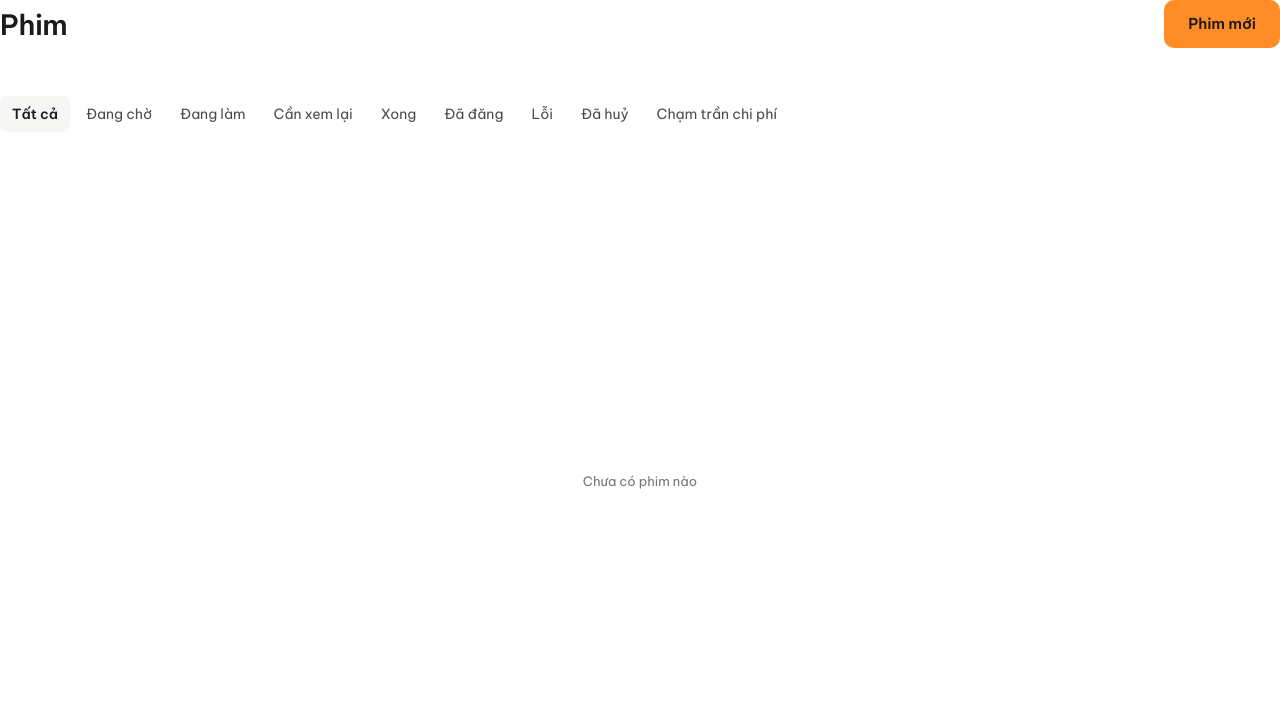
Test: new film › a 400 shows the details list
Step 1. Click the button "Phim mới" → coordinates (1222, 24), box [1164, 0, 1279, 48]
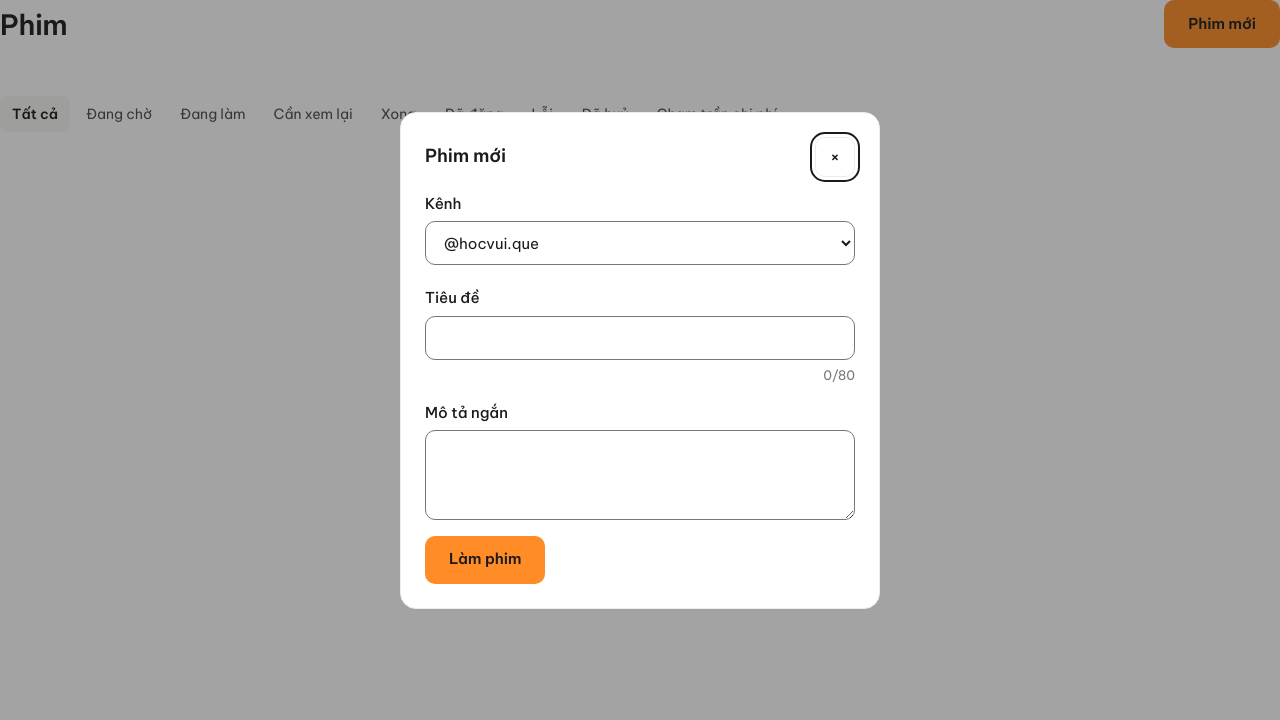
Now the dropdown labelled "Kênh" shows "@hocvui.que", box [425, 221, 855, 265]
Step 2. Type "Phân số là gì?" into the field labelled "Tiêu đề" → coordinates (640, 338), box [425, 316, 855, 360]
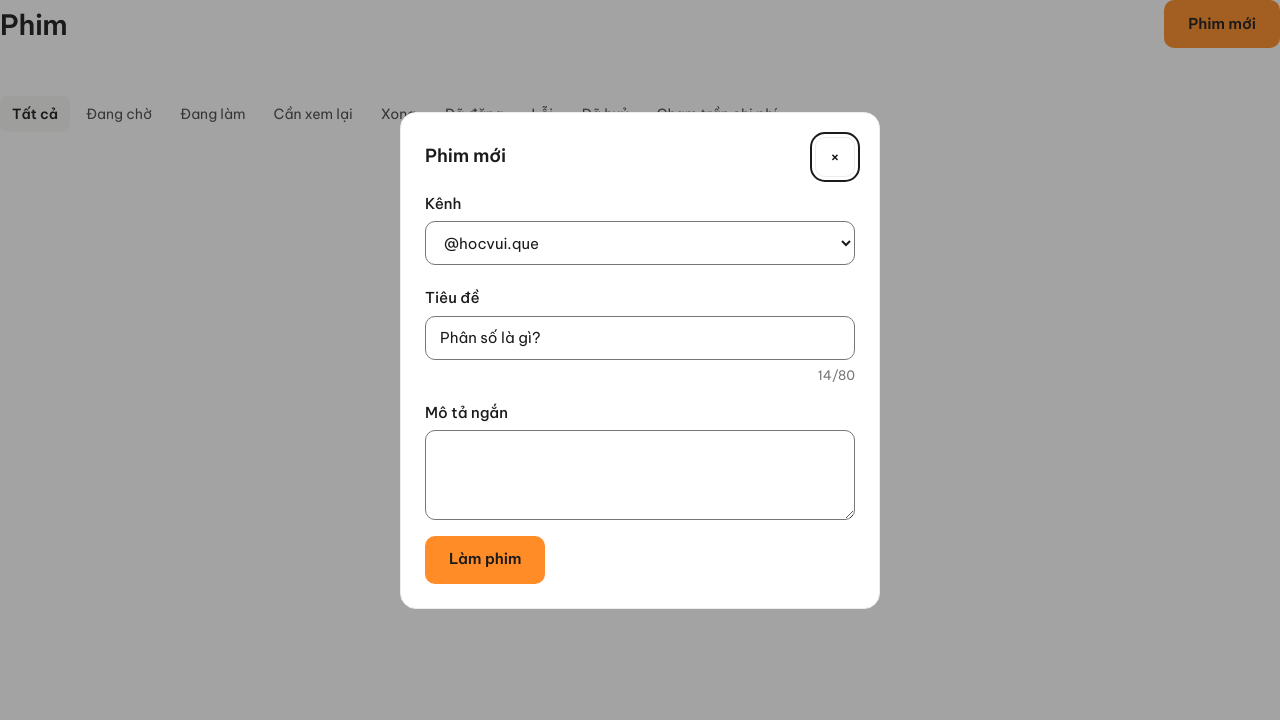
Step 3. Click the button "Làm phim" → coordinates (485, 560), box [425, 536, 546, 584]
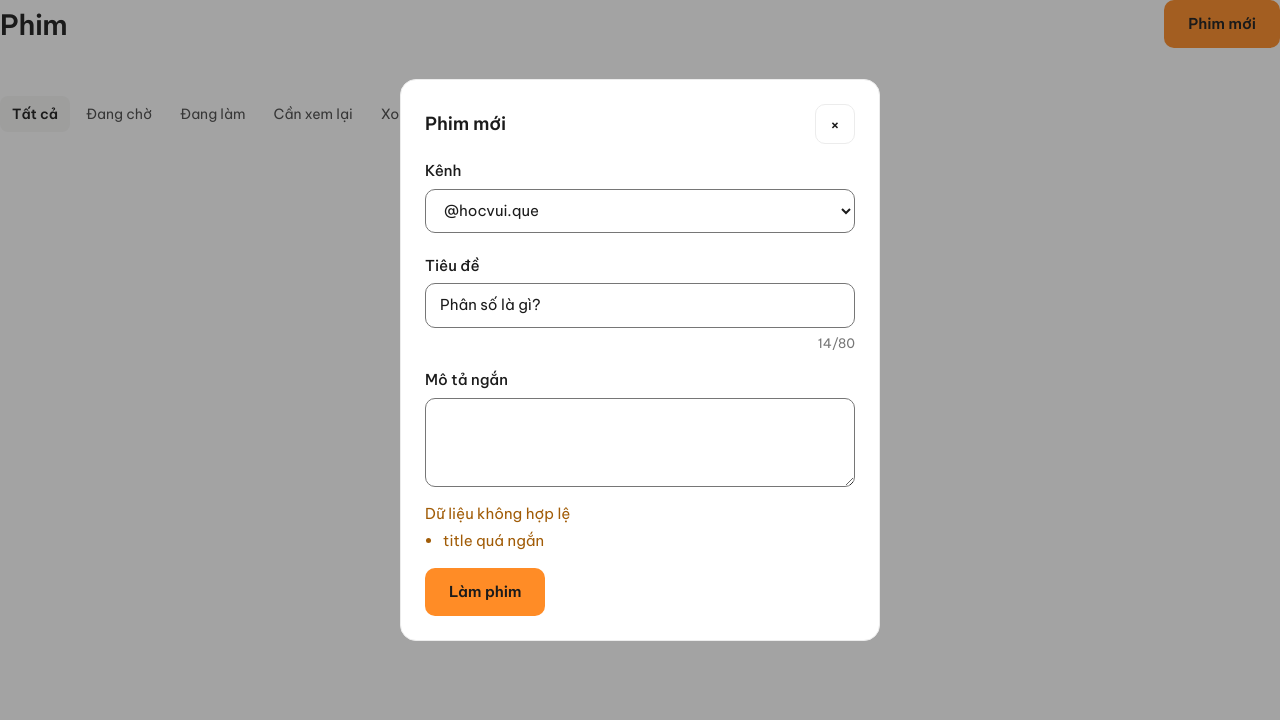
Now the list item "title quá ngắn" is shown, box [443, 530, 544, 550]
